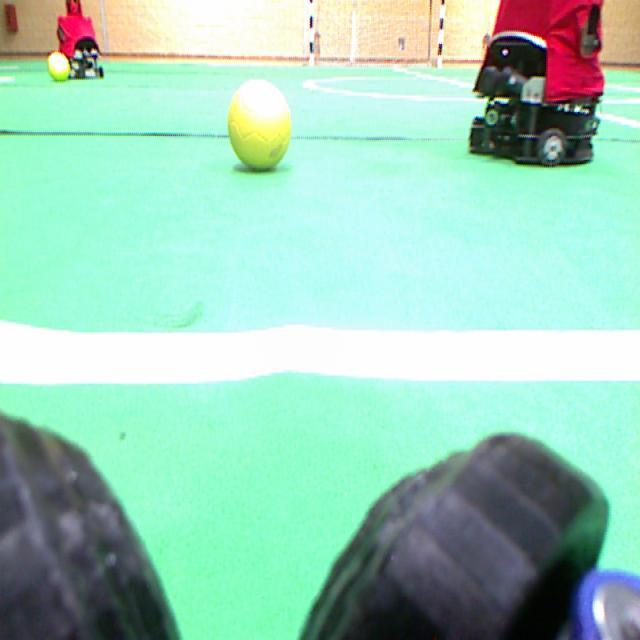ball: (228, 79, 290, 169), (48, 52, 69, 80)
